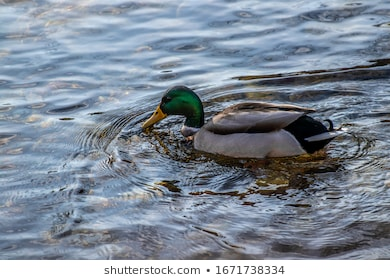duck: (132, 73, 368, 172)
